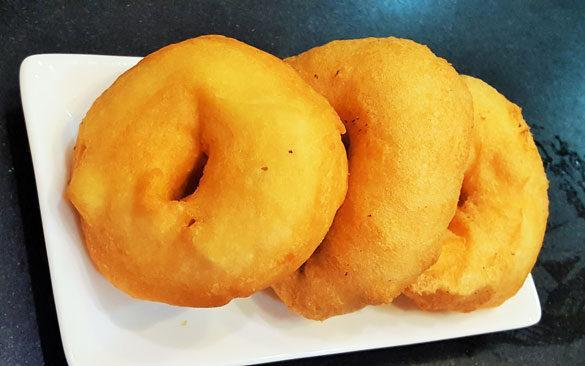mvada: (116, 48, 476, 268)
